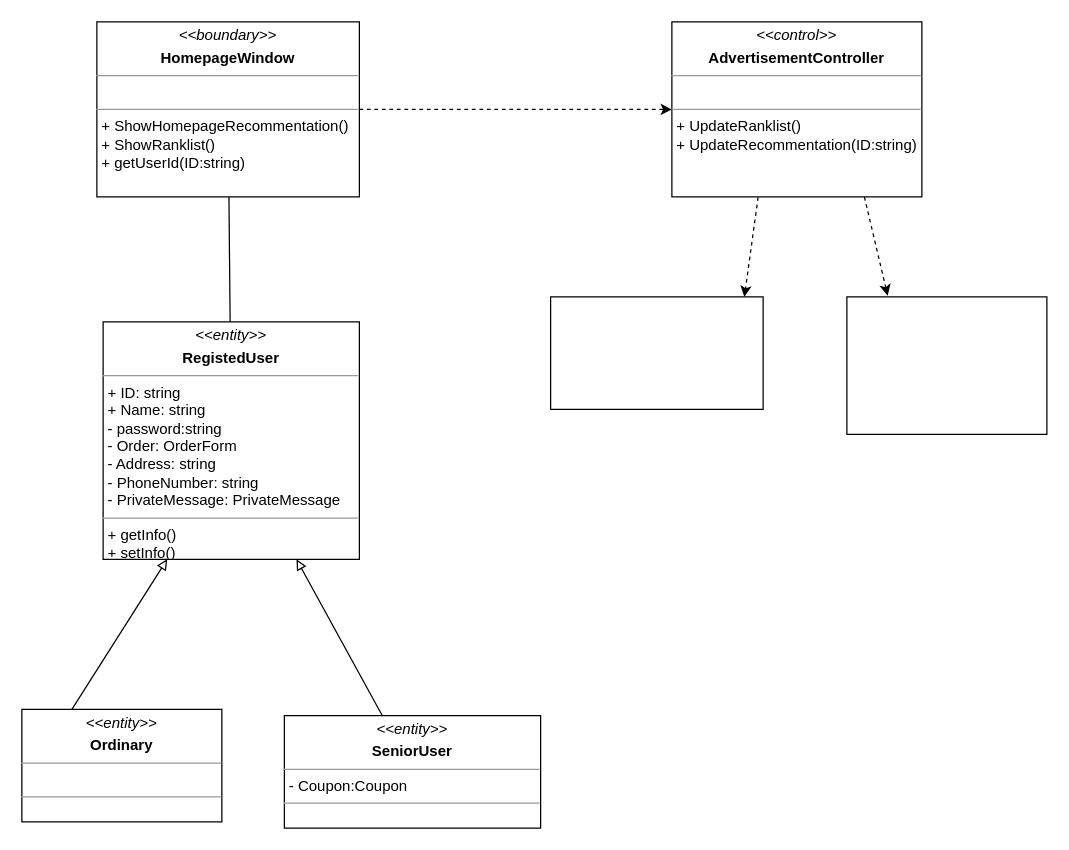
Some shapes in this 1069 by 850 pixel diagram are drawn without their labels. The centre of each missing label's shape, as x and y in pixels:
"<<entity>> HomepageRecommentation + BookList:Book[]" belongs at [656,352].
"<<entity>> RankList + BookList:Book[] + Time:string + BasedFeature:string" belongs at [946,365].
